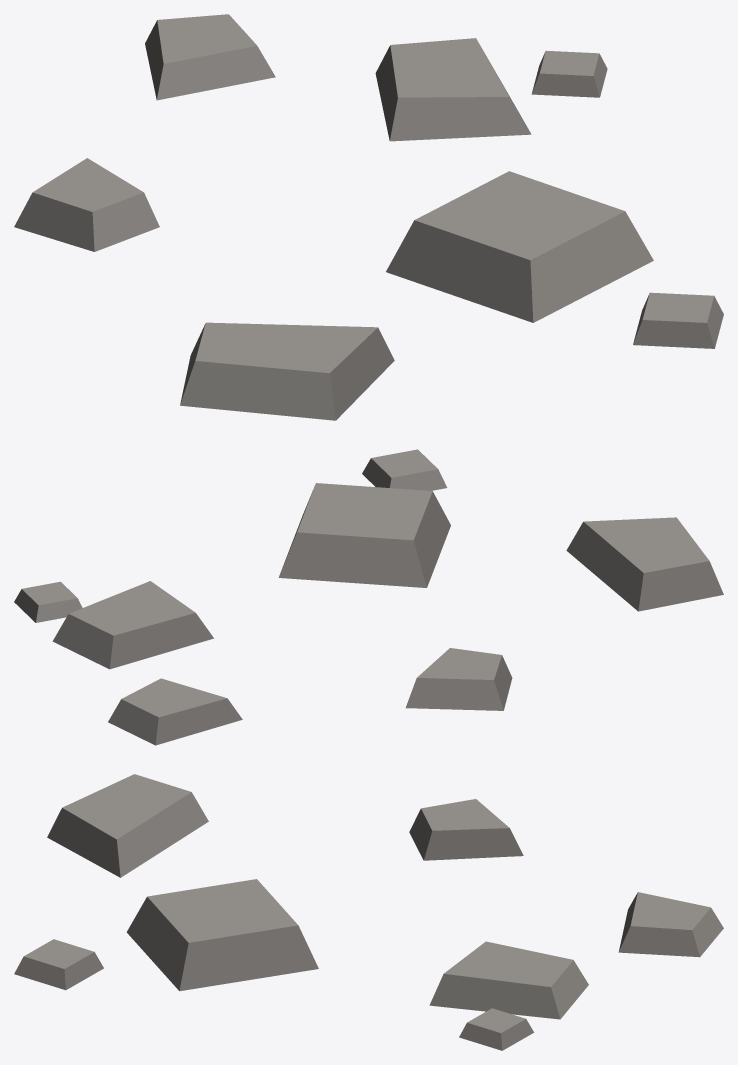
File: SD_Prop_Rubble_01.fbx
3 renders of one model, top to bottom at view 1: azimuth 30°, elevation 25°; view 2: azimuth 150°, elevation 25°; view 3: azimuth 270°, elevation 25°, orthographic. The views are drawn at different scales.
Parts seen in each view (by area): view 1: SD_Prop_Rubble_01; view 2: SD_Prop_Rubble_01; view 3: SD_Prop_Rubble_01.
Boxes of the visible parts, x1=… form: SD_Prop_Rubble_01: x1=14, y1=14, x2=723, y2=420; SD_Prop_Rubble_01: x1=14, y1=449, x2=723, y2=745; SD_Prop_Rubble_01: x1=14, y1=774, x2=723, y2=1050.
Size of the model in its own units: 2.44 by 0.178 by 2.89.
